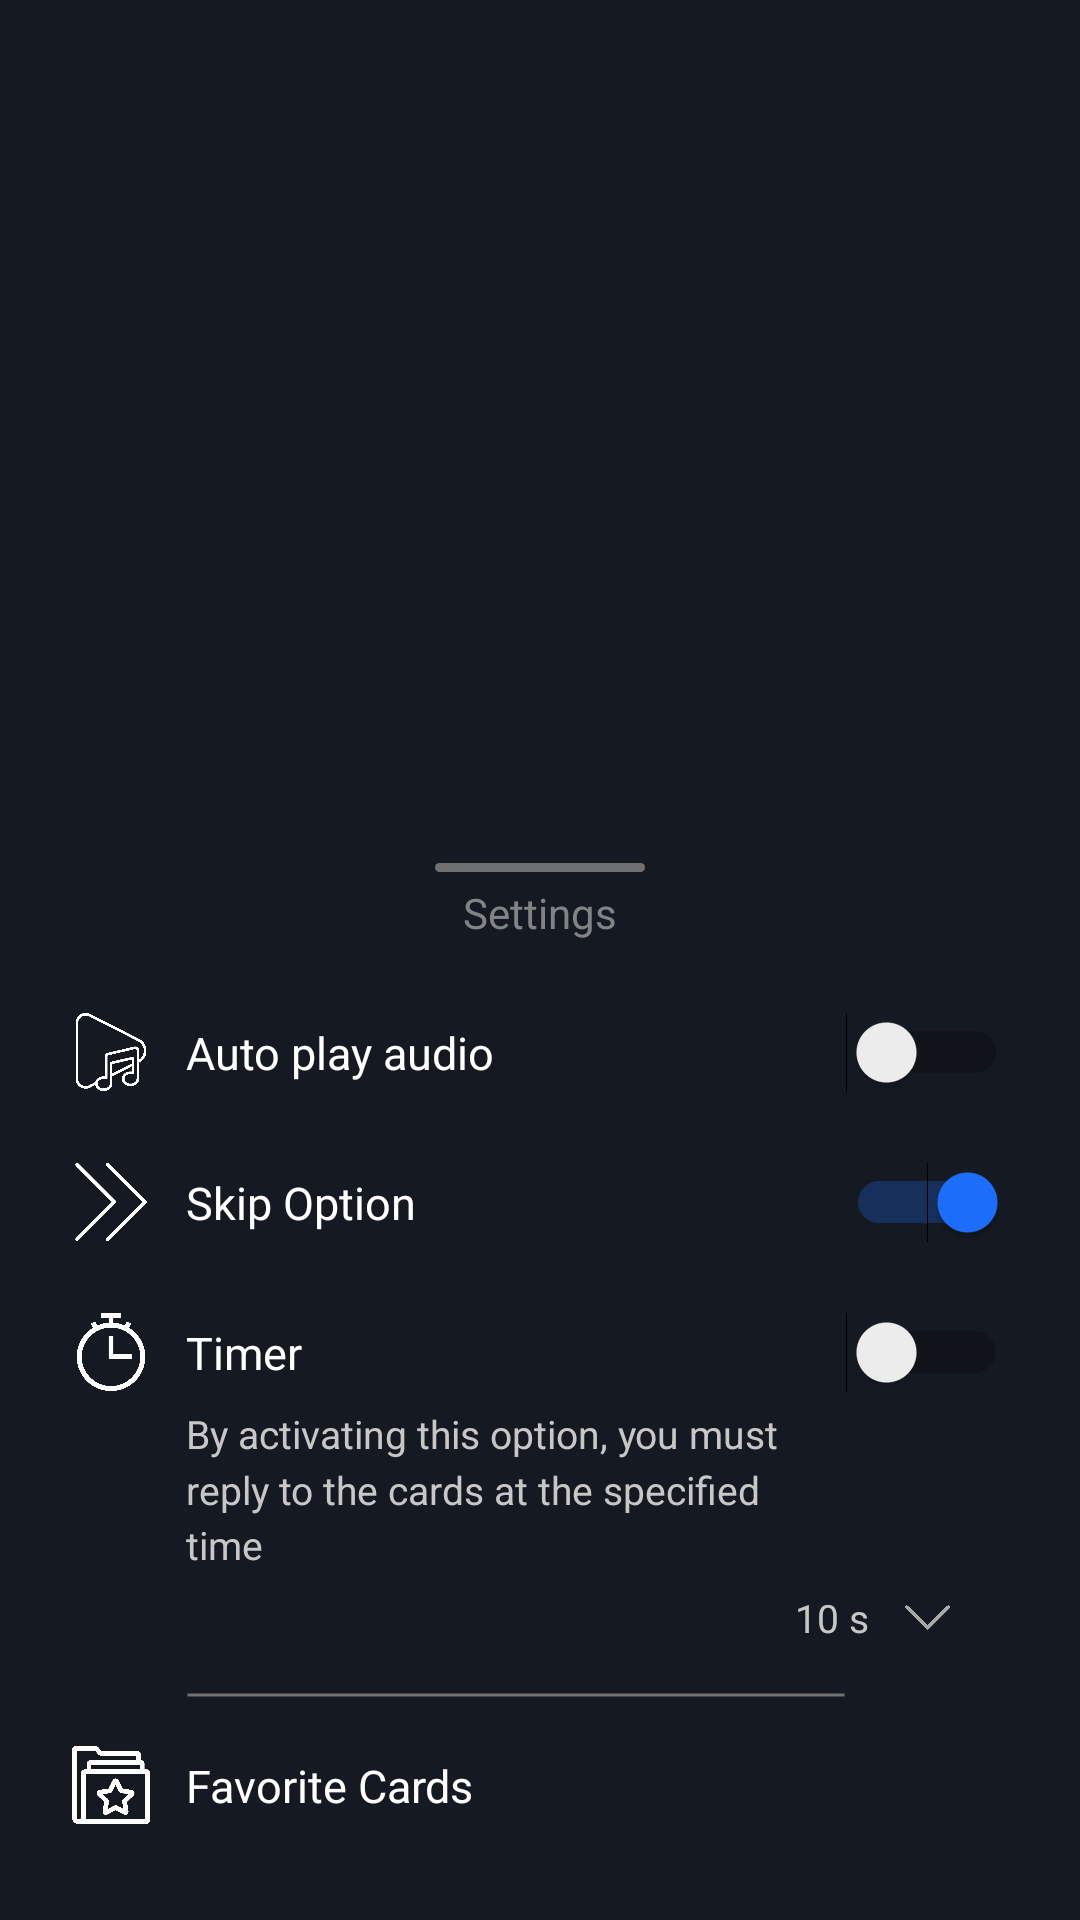

Where to tap for icons on this 1080 × 1920 app screen, as (x=x, y=y):
music: (x=111, y=1052)
